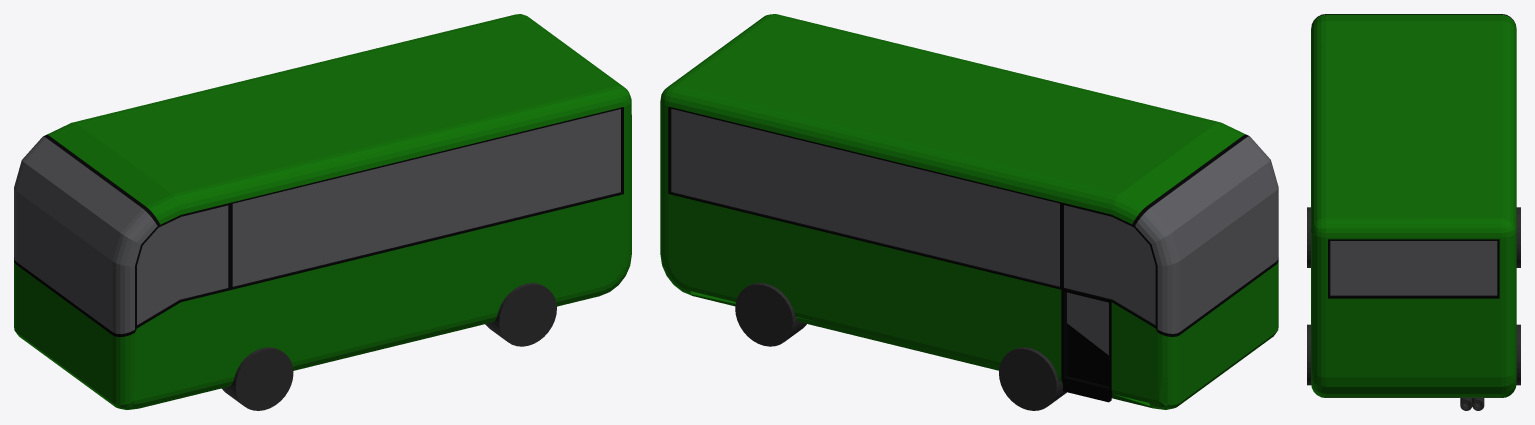
Rendered from bus2.fbx.
3 renders of one model, left to right at view 1: azimuth 30°, elevation 25°; view 2: azimuth 150°, elevation 25°; view 3: azimuth 270°, elevation 25°, orthographic. The views are drawn at different scales.
Parts seen in each view (by area): view 1: Cube.001; view 2: Cube.001; view 3: Cube.001.
Boxes of the visible parts, x1,y1,x2,y2 form: Cube.001: (14,14,631,410); Cube.001: (660,14,1278,410); Cube.001: (1307,14,1520,410).
Size of the model in its own units: 3999 by 1688 by 1572.
